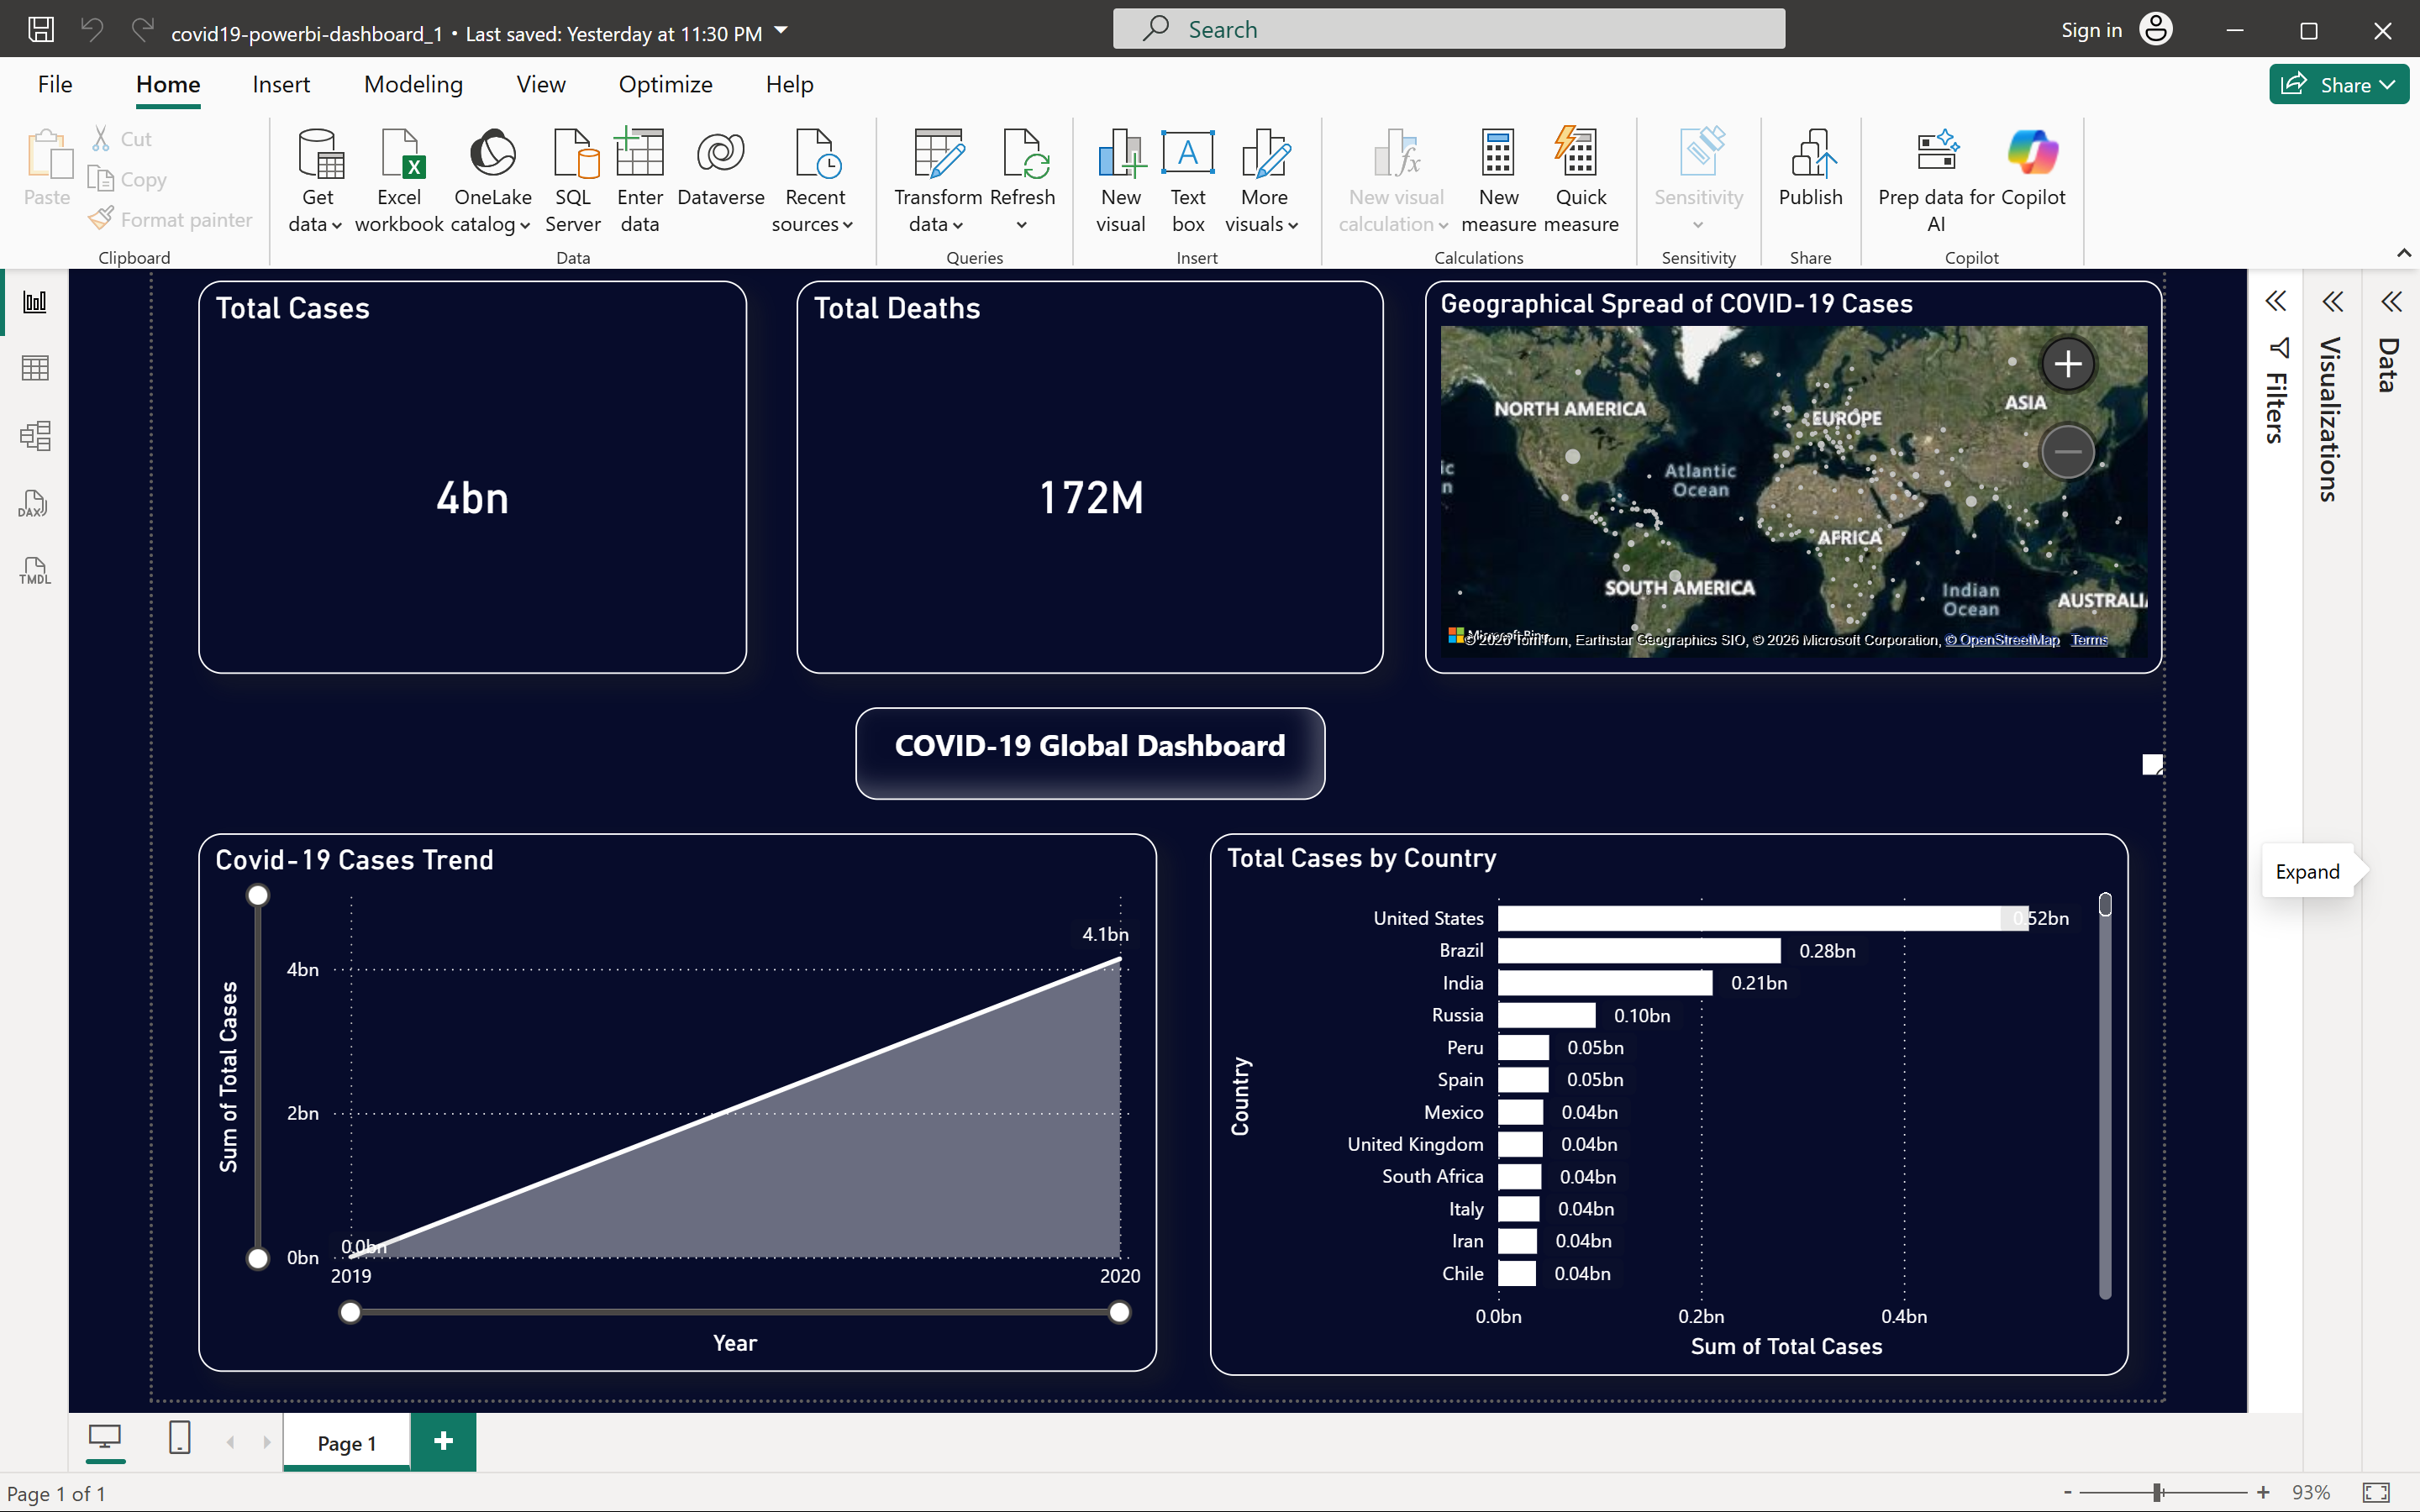

Layout of this report page (visuals, bound fields, positions):
{"tool":"powerbi","page":{"name":"Page 1","canvas":[1280,720],"ordinal":0},"visuals":[{"type":"card","title":"Total Cases","fields":{"Values":["Sum(covid19_original_data.Total Cases)"]},"box":[28.9,0,349.5,250.4],"z":0},{"type":"card","box":[1267.8,291.6,12.2,30.1],"z":1000},{"type":"lineChart","title":"Covid-19 Cases Trend","fields":{"Category":["covid19_original_data.Date.Variation.Date Hierarchy.Year","covid19_original_data.Date.Variation.Date Hierarchy.Quarter","covid19_original_data.Date.Variation.Date Hierarchy.Month","covid19_original_data.Date.Variation.Date Hierarchy.Day"],"Y":["Sum(covid19_original_data.Total Cases)"]},"box":[28.9,335,611.1,367.3],"z":2000},{"type":"card","title":"Total Deaths","fields":{"Values":["Sum(covid19_original_data.Total Deaths)"]},"box":[408.5,0,374,250.4],"z":3000},{"type":"barChart","title":"Total Cases by Country","fields":{"Category":["covid19_original_data.Country"],"Y":["Sum(covid19_original_data.Total Cases)"]},"box":[656.7,333.9,623.3,368.4],"z":4000},{"type":"map","title":"Geographical Spread of COVID-19 Cases","fields":{"Category":["covid19_original_data.Country"],"Size":["Sum(covid19_original_data.Total Cases)"]},"box":[810.3,0,469.7,250.4],"z":5000},{"type":"textbox","box":[507.5,274.9,299.4,46.7],"z":6000}]}

Visuals, with their boxes on the page's 1280x720 design canvas (x1, y1, x2, y2). These are canvas units, not pixel positions in the 2420x1512 screenshot, which may show the page scaled, cropped or inside an application window:
"Total Cases" card: [29, 0, 378, 250]
card: [1268, 292, 1280, 322]
"Covid-19 Cases Trend" lineChart: [29, 335, 640, 702]
"Total Deaths" card: [408, 0, 782, 250]
"Total Cases by Country" barChart: [657, 334, 1280, 702]
"Geographical Spread of COVID-19 Cases" map: [810, 0, 1280, 250]
textbox: [508, 275, 807, 322]
